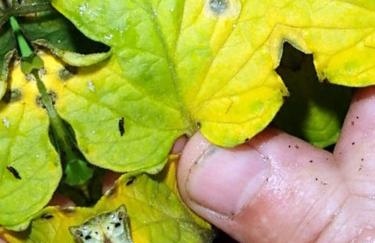Tomato Early blight leaf: (2, 0, 314, 204)
